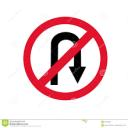NoVirarU: (20, 12, 114, 102)
